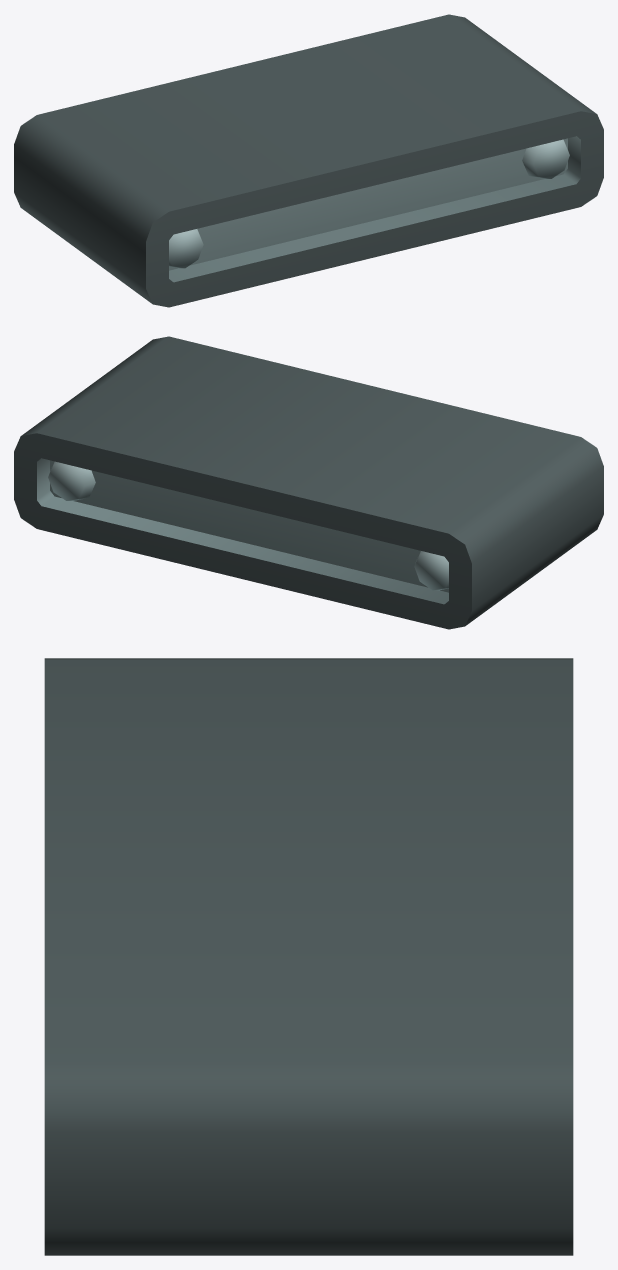
The model's file is conveyor-long.glb.
3 views of the same model, one above another, from view 1: azimuth 30°, elevation 25°; view 2: azimuth 150°, elevation 25°; view 3: azimuth 270°, elevation 25° (orthographic). The views are drawn at different scales.
Visible parts, largest first — view 1: conveyor-long; view 2: conveyor-long; view 3: conveyor-long.
Part boxes in pixels (x1,y1,x2,y2): conveyor-long: (14, 14, 603, 307); conveyor-long: (14, 336, 603, 629); conveyor-long: (44, 658, 573, 1255).
Bounding box in the file's own units: 2 × 0.4 × 1.
Materials: 1 (1 with a texture image).
